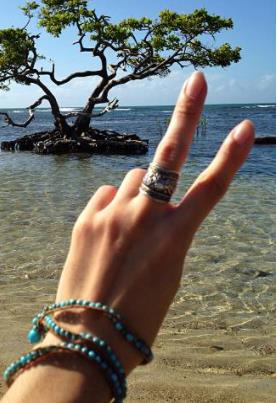front: (50, 66, 259, 339)
